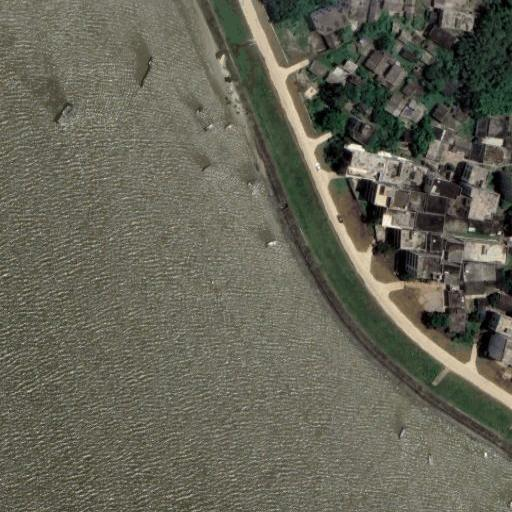building: (468, 187, 501, 222), (461, 241, 507, 263), (315, 6, 348, 36), (374, 186, 410, 209), (349, 151, 385, 173), (318, 64, 346, 92), (427, 25, 458, 50), (383, 208, 416, 231), (301, 54, 329, 81), (351, 117, 377, 146), (441, 11, 475, 31), (463, 262, 496, 282), (432, 180, 463, 201), (364, 50, 389, 75), (385, 62, 409, 88), (383, 93, 407, 116), (467, 165, 493, 186), (482, 145, 507, 166), (418, 256, 440, 279), (347, 0, 368, 22), (450, 138, 474, 157), (418, 213, 442, 232), (402, 231, 426, 250), (440, 264, 461, 284), (488, 117, 507, 139), (435, 0, 472, 11), (426, 195, 446, 215), (494, 315, 512, 337), (445, 241, 462, 263), (408, 191, 426, 210), (447, 288, 464, 308), (367, 0, 380, 23), (436, 142, 450, 161), (381, 0, 405, 11), (427, 139, 440, 158), (466, 281, 485, 294), (433, 105, 448, 121), (385, 160, 400, 176), (497, 295, 512, 311), (430, 235, 444, 251), (399, 30, 413, 45), (440, 129, 455, 143), (502, 341, 512, 362), (420, 51, 435, 64), (410, 110, 423, 125), (407, 99, 420, 113), (402, 49, 417, 61), (431, 127, 443, 142), (381, 78, 394, 90), (403, 83, 415, 96), (401, 107, 412, 118), (410, 35, 422, 45), (404, 3, 416, 12), (392, 22, 399, 32), (405, 0, 414, 4)
